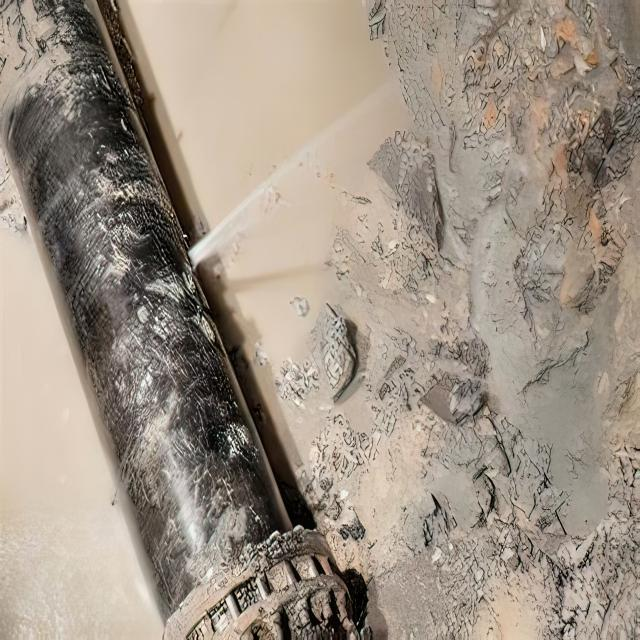leak: (190, 81, 410, 266)
